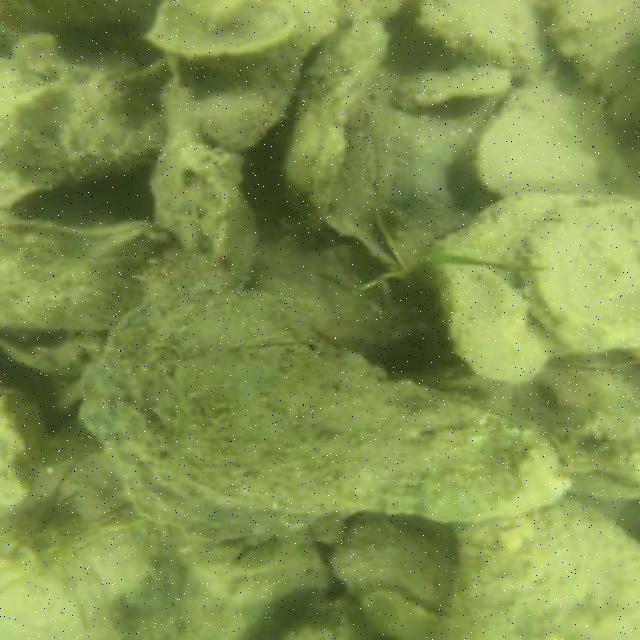Oyster-Closed: (144, 336, 588, 523), (72, 290, 316, 543), (448, 504, 639, 640), (187, 0, 338, 152), (290, 21, 388, 232), (477, 69, 636, 193), (532, 200, 635, 350), (444, 265, 547, 385), (547, 0, 638, 127), (330, 519, 451, 612), (419, 0, 545, 82)
